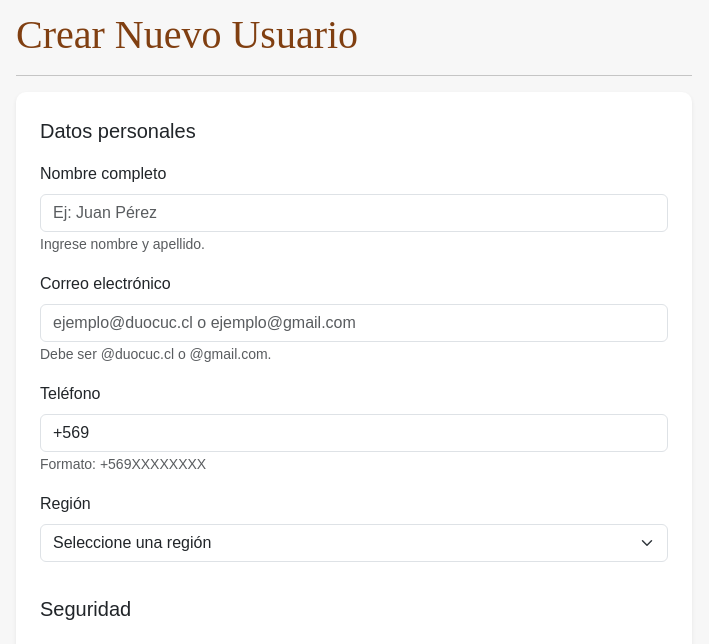
Test case: Pruebas para CreateUser (Formulario) › CP3: Debe mostrar error si el correo no es válido
Type "Test User" into the field labelled "Nombre completo" at (354, 213), box x1=40 y1=194 x2=668 y2=232
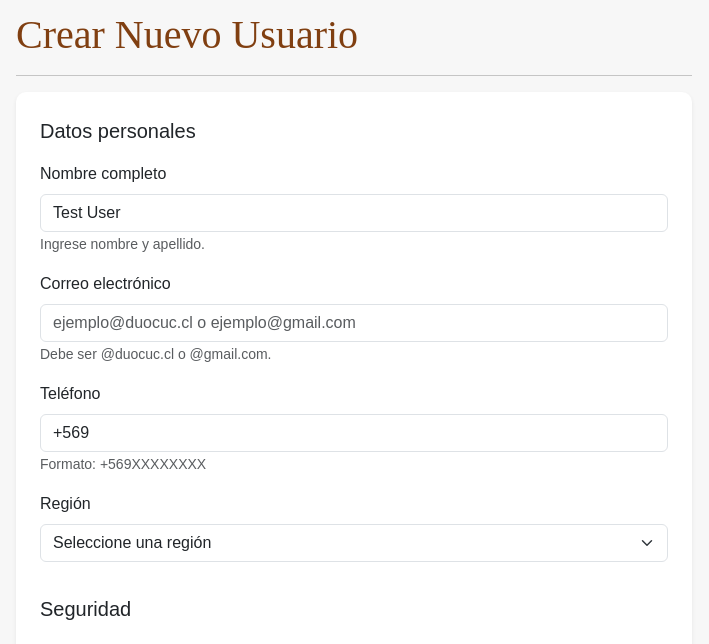
Type "bad-email.com" into the field labelled "Correo electrónico" at (354, 323), box x1=40 y1=304 x2=668 y2=342
(page scrolled)
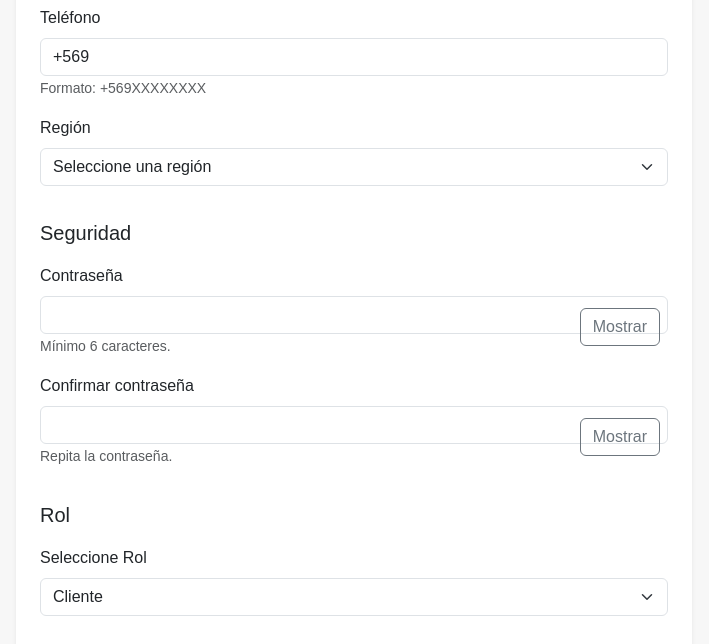
Type "123456" into the password field labelled "Contraseña" at (354, 315), box x1=40 y1=296 x2=668 y2=334
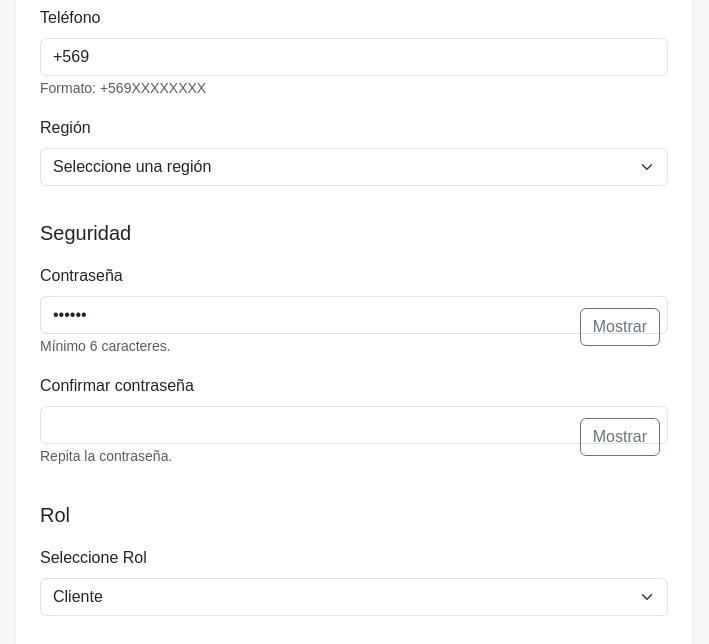
Type "123456" into the password field labelled "Confirmar contraseña" at (354, 425), box x1=40 y1=406 x2=668 y2=444
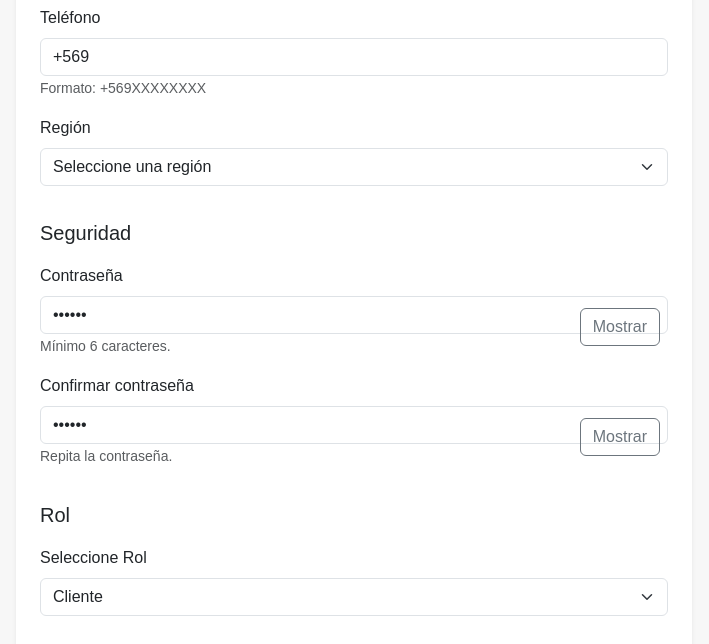
Select "Metropolitana de Santiago" in the dropdown labelled "Región" at (354, 167), box x1=40 y1=148 x2=668 y2=186
(page scrolled)
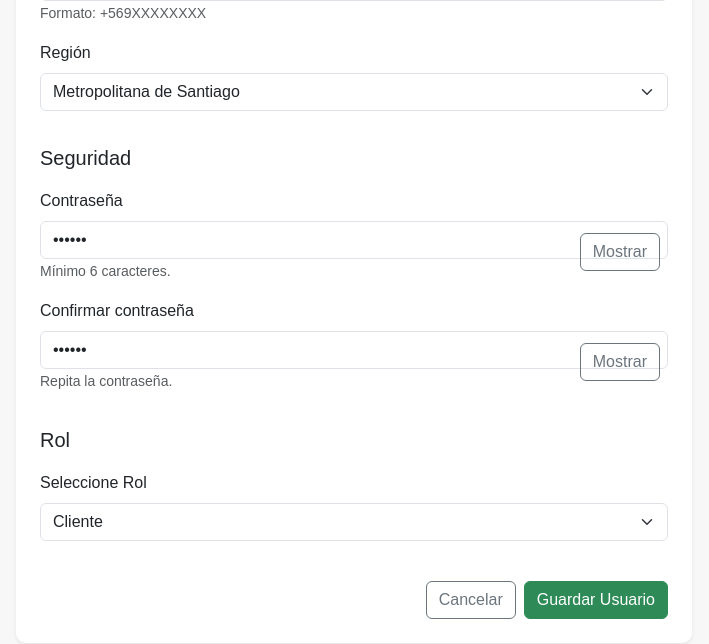
Submit the form from the button "Guardar Usuario", box x1=524 y1=581 x2=668 y2=619
(page scrolled)
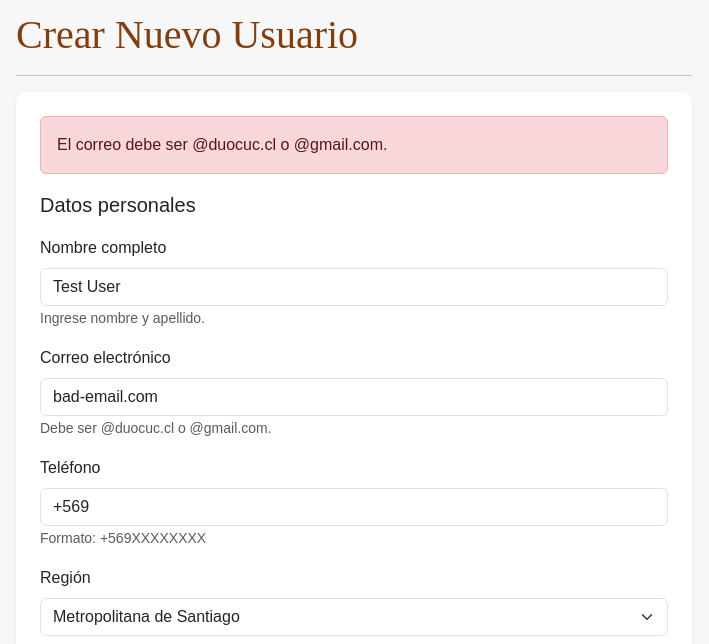
Expected: the text "El correo debe ser @duocuc.cl o @gmail.com." is shown, x1=40 y1=116 x2=668 y2=174
